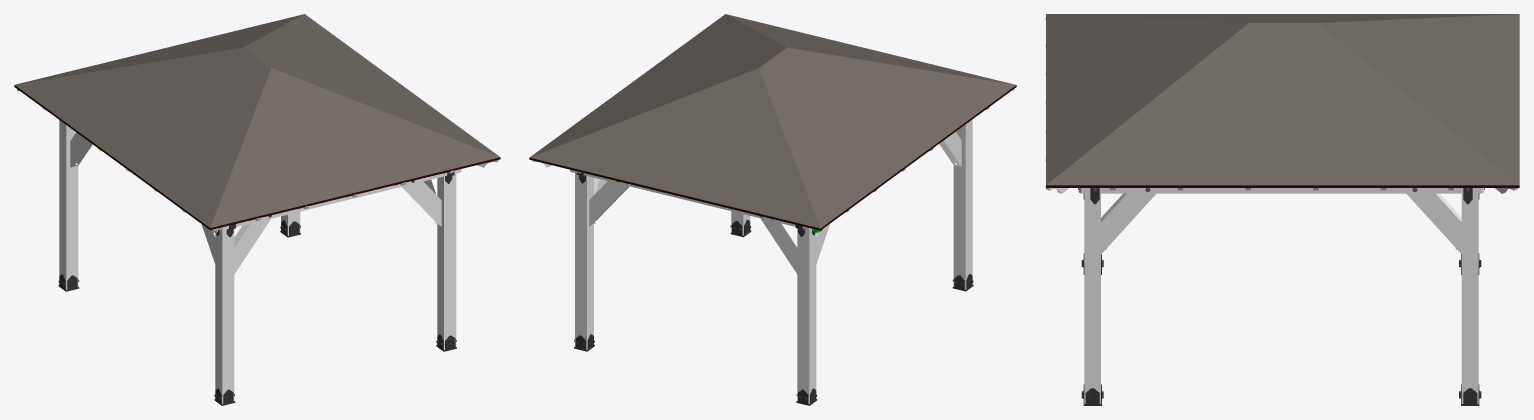
The model's file is saratoga-12x14-cove.obj.
3 views of the same model, side by side, from view 1: azimuth 30°, elevation 25°; view 2: azimuth 150°, elevation 25°; view 3: azimuth 270°, elevation 25° (orthographic). The views are drawn at different scales.
Visible parts, largest first — view 1: Mesh228 shingles roof Group1 Model, Mesh179 Group72 Component_92_4 Group1 Model, Mesh81 Group44 Component_92_2 Group1 Model, Mesh130 Group58 Component_92_3 Group1 Model, Mesh229 roof Group1 Model, Mesh219 Component_91_7 Component_92_4 Group1 Model, Mesh77 Component_135_1 Group1 Model, Mesh121 Component_91_3 Component_92_2 Group1 Model, Mesh174 Component_91_6 Component_92_3 Group1 Model; view 2: Mesh228 shingles roof Group1 Model, Mesh130 Group58 Component_92_3 Group1 Model, Mesh1 Group3 Component_92_1 Group2 Group1 Model, Mesh179 Group72 Component_92_4 Group1 Model, Mesh229 roof Group1 Model, Mesh170 Component_91_5 Component_92_3 Group1 Model, Mesh41 Component_91_1 Component_92_1 Group2 Group1 Model, Mesh79 Component_135_2 Group1 Model, Mesh223 Component_91_8 Component_92_4 Group1 Model; view 3: Mesh228 shingles roof Group1 Model, Mesh1 Group3 Component_92_1 Group2 Group1 Model, Mesh81 Group44 Component_92_2 Group1 Model, Mesh80 Component_134_2 Group1 Model, Mesh45 Component_91_2 Component_92_1 Group2 Group1 Model, Mesh125 Component_91_4 Component_92_2 Group1 Model, Mesh229 roof Group1 Model.
Part boxes in pixels (x1,y1,x2,y2): Mesh228 shingles roof Group1 Model: [15, 14, 499, 227]; Mesh179 Group72 Component_92_4 Group1 Model: [215, 229, 234, 404]; Mesh81 Group44 Component_92_2 Group1 Model: [437, 173, 456, 349]; Mesh130 Group58 Component_92_3 Group1 Model: [59, 120, 78, 289]; Mesh229 roof Group1 Model: [14, 85, 500, 230]; Mesh219 Component_91_7 Component_92_4 Group1 Model: [234, 219, 270, 273]; Mesh77 Component_135_1 Group1 Model: [218, 169, 461, 230]; Mesh121 Component_91_3 Component_92_2 Group1 Model: [402, 181, 441, 226]; Mesh174 Component_91_6 Component_92_3 Group1 Model: [70, 132, 92, 167]; Mesh228 shingles roof Group1 Model: [530, 14, 1015, 228]; Mesh130 Group58 Component_92_3 Group1 Model: [797, 228, 816, 404]; Mesh1 Group3 Component_92_1 Group2 Group1 Model: [575, 173, 593, 349]; Mesh179 Group72 Component_92_4 Group1 Model: [953, 119, 972, 289]; Mesh229 roof Group1 Model: [529, 85, 1016, 230]; Mesh170 Component_91_5 Component_92_3 Group1 Model: [760, 218, 797, 273]; Mesh41 Component_91_1 Component_92_1 Group2 Group1 Model: [589, 181, 629, 226]; Mesh79 Component_135_2 Group1 Model: [569, 169, 812, 229]; Mesh223 Component_91_8 Component_92_4 Group1 Model: [939, 132, 961, 166]; Mesh228 shingles roof Group1 Model: [1046, 14, 1519, 185]; Mesh1 Group3 Component_92_1 Group2 Group1 Model: [1461, 193, 1478, 403]; Mesh81 Group44 Component_92_2 Group1 Model: [1084, 193, 1100, 403]; Mesh80 Component_134_2 Group1 Model: [1090, 188, 1472, 193]; Mesh45 Component_91_2 Component_92_1 Group2 Group1 Model: [1407, 193, 1461, 253]; Mesh125 Component_91_4 Component_92_2 Group1 Model: [1101, 193, 1155, 254]; Mesh229 roof Group1 Model: [1046, 185, 1519, 187].
Bounding box in the file's own units: 144 × 123 × 168.
